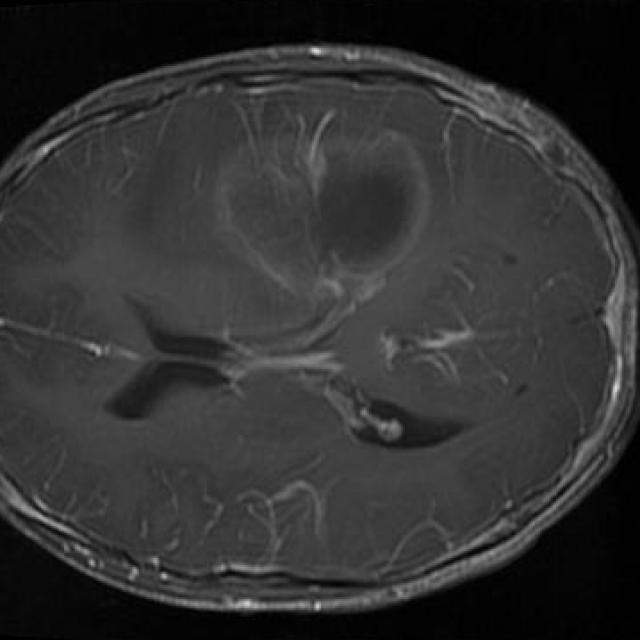glioma: (221, 135, 431, 296)
